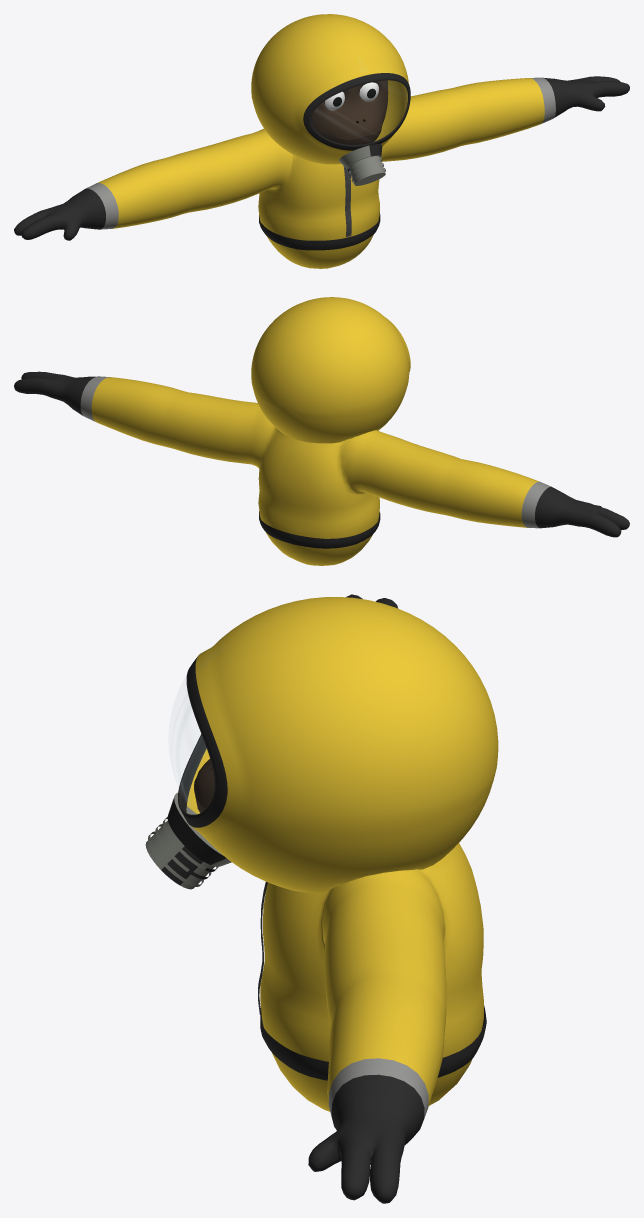
Rendered from HazmatSuit_GlassOn.fbx.
The picture shows the model from 3 angles, top to bottom: view 1: azimuth 30°, elevation 25°; view 2: azimuth 150°, elevation 25°; view 3: azimuth 270°, elevation 25°; orthographic projection. The views are drawn at different scales.
Parts seen in each view (by area): view 1: Hazmat_Suit, Hazmat_Hood, Retopo_Cube.001, Hazmat_Respirator, Hazmat_Belt, Cube.001, Hazmat_Zipper; view 2: Hazmat_Suit, Hazmat_Hood, Hazmat_Belt; view 3: Hazmat_Hood, Hazmat_Suit, Hazmat_Respirator, Hazmat_Belt.
Part boxes in pixels (x1,y1,x2,y2): Hazmat_Suit: (14, 76, 629, 268); Hazmat_Hood: (251, 14, 410, 164); Retopo_Cube.001: (311, 80, 388, 144); Hazmat_Respirator: (339, 144, 385, 185); Hazmat_Belt: (259, 213, 380, 250); Cube.001: (325, 82, 378, 110); Hazmat_Zipper: (343, 166, 351, 236); Hazmat_Suit: (14, 371, 629, 565); Hazmat_Hood: (251, 297, 410, 443); Hazmat_Belt: (259, 511, 380, 548); Hazmat_Hood: (175, 597, 498, 892); Hazmat_Suit: (260, 594, 483, 1203); Hazmat_Respirator: (145, 792, 231, 889); Hazmat_Belt: (260, 1005, 486, 1080).
Bounding box in the file's own units: 463 × 181 × 117.
10 materials, 1 textured.
